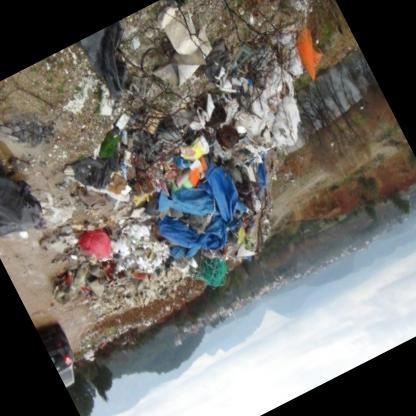Garbage: (80, 0, 302, 208), (2, 119, 195, 300), (121, 110, 268, 281), (53, 202, 180, 327), (193, 59, 298, 164), (0, 111, 55, 261), (269, 23, 332, 91)
